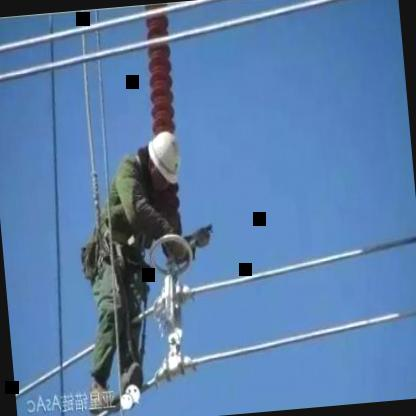helmet: (139, 126, 187, 196)
